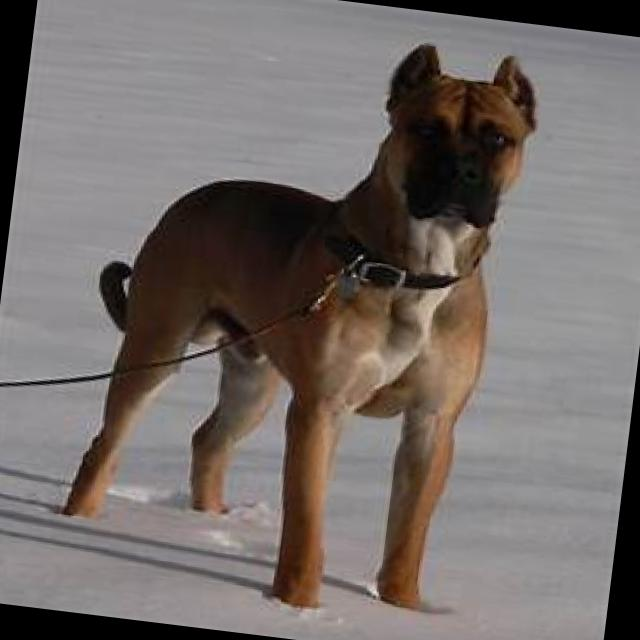dog: (47, 2, 546, 632)
